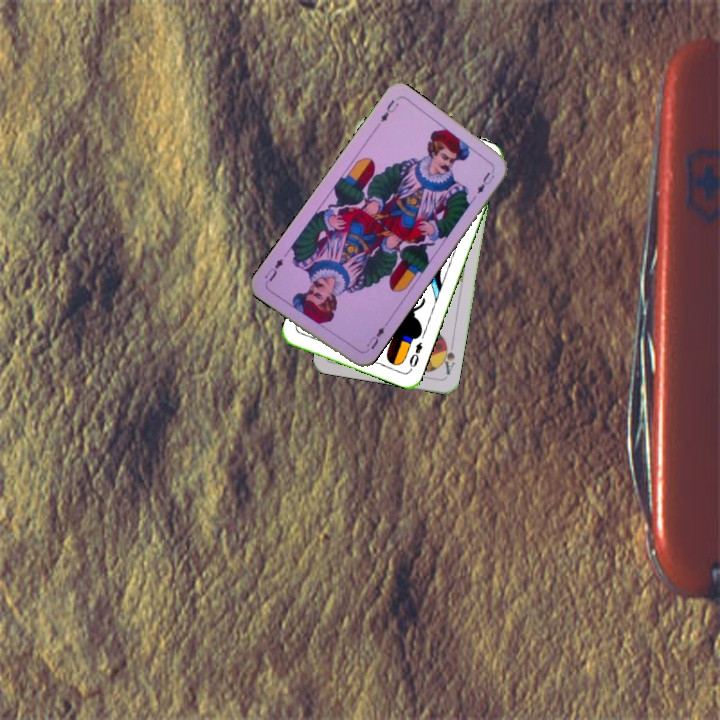EO: (405, 338, 425, 373)
EU: (360, 320, 389, 355), (376, 96, 402, 125)
SA: (437, 337, 458, 377)
